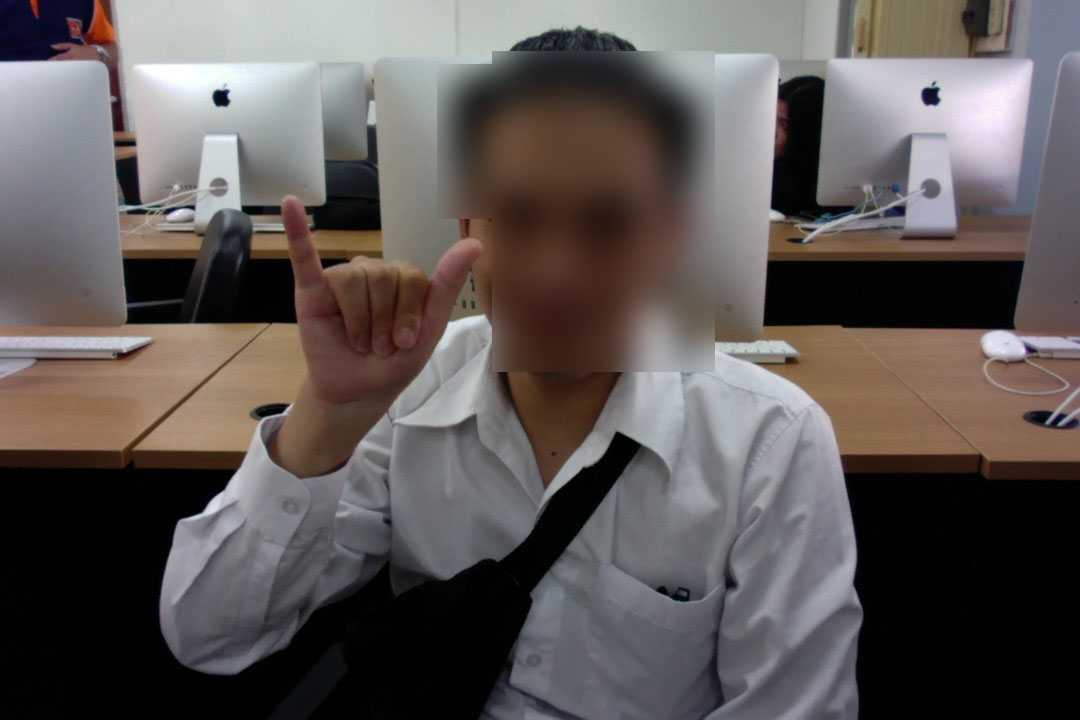yor: (275, 188, 488, 436)
